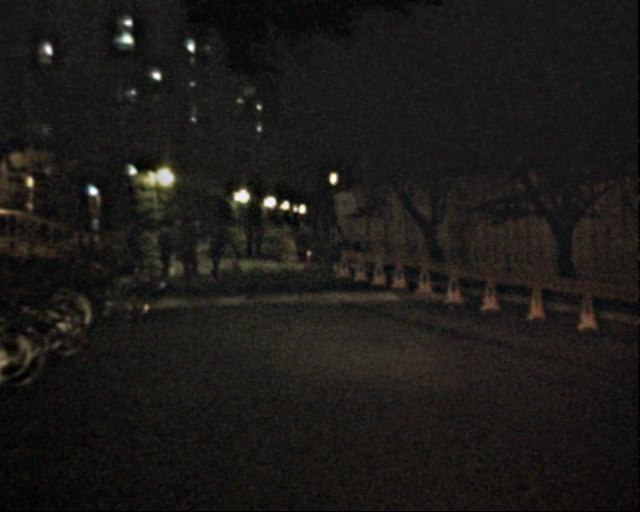person: (178, 226, 201, 282), (202, 227, 225, 283), (128, 218, 150, 271), (327, 224, 348, 276), (156, 223, 177, 273), (170, 217, 186, 257), (190, 220, 206, 258), (243, 219, 259, 257), (250, 220, 264, 255)
